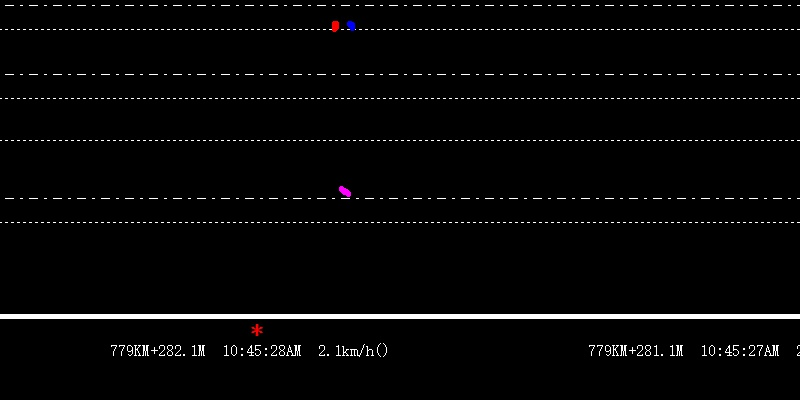face_1: (330, 20, 341, 36), (345, 20, 357, 32)
star: (248, 320, 266, 340)
